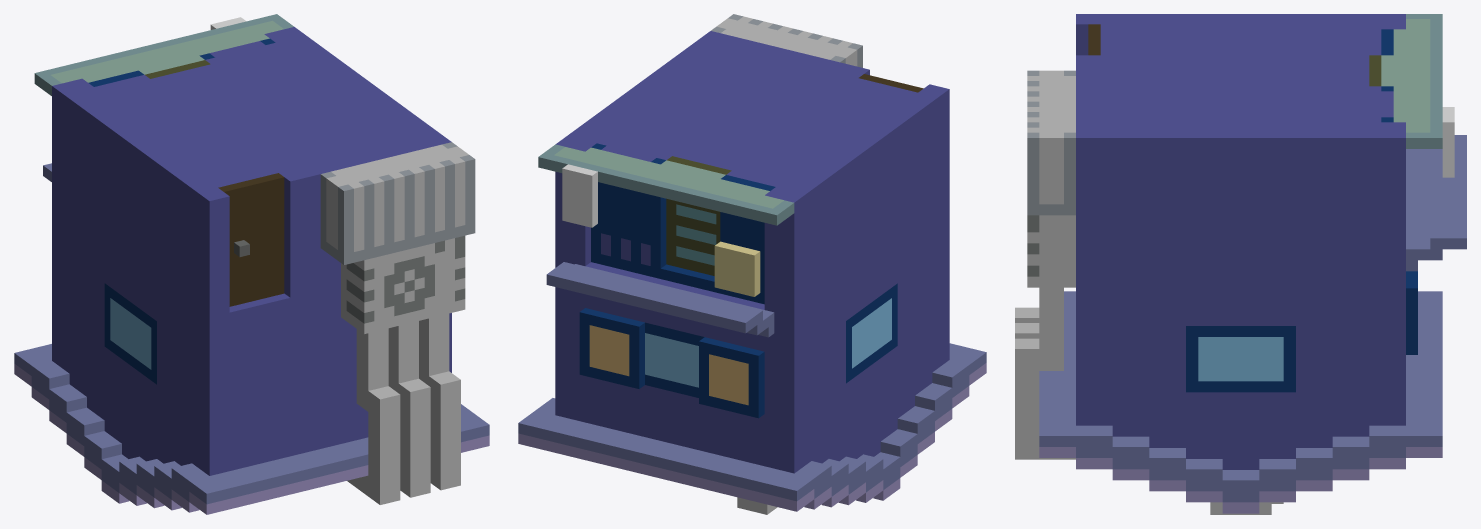
The model's file is Matsumoto6.fbx.
3 renders of one model, left to right at view 1: azimuth 30°, elevation 25°; view 2: azimuth 150°, elevation 25°; view 3: azimuth 270°, elevation 25°, orthographic. The views are drawn at different scales.
Parts seen in each view (by area): view 1: palette; view 2: palette; view 3: palette.
Boxes of the visible parts, x1,y1,x2,y2 form: palette: [14, 14, 489, 514]; palette: [518, 14, 986, 514]; palette: [1015, 14, 1466, 514].
Bounding box in the file's own units: 28 × 35 × 37.
1 material, 1 textured.
